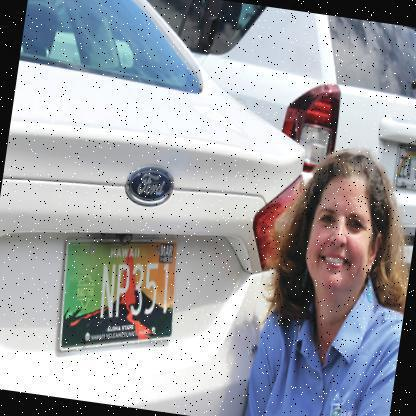License-Plate: (49, 218, 195, 367), (391, 143, 415, 196)
